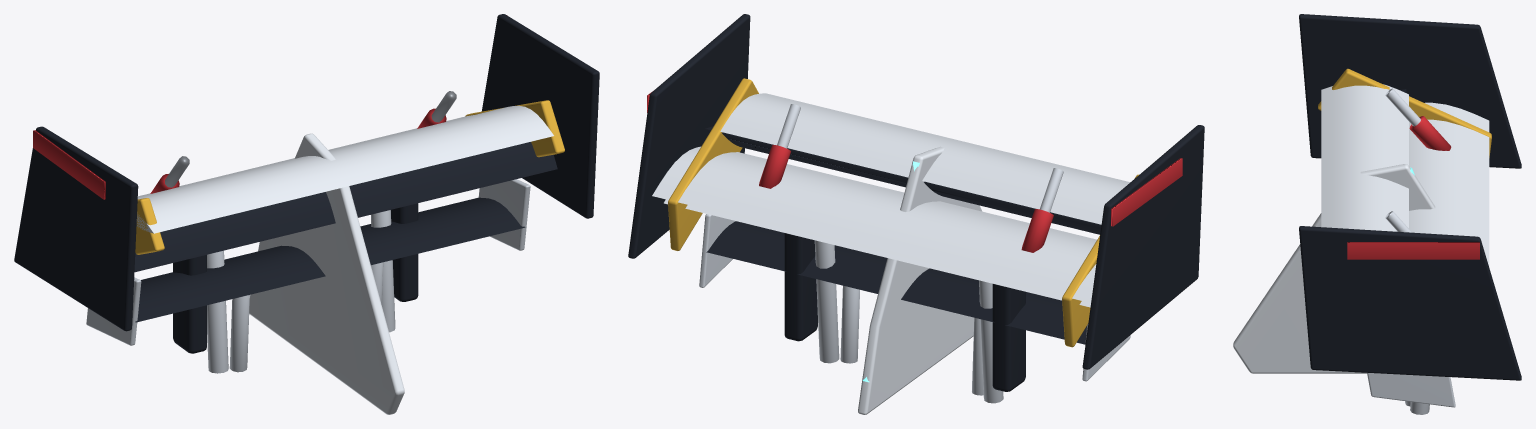
Rendered from parts_wing.glb.
The picture shows the model from 3 angles, left to right: view 1: azimuth 30°, elevation 25°; view 2: azimuth 150°, elevation 25°; view 3: azimuth 270°, elevation 25°; orthographic projection. The views are drawn at different scales.
Visible parts, largest first — view 1: FinBlade, TandemBlade1, FlapEndplate_-1, FlapBlade, FinLow, FlapEndplate_1, TandemSupport, FinSide_1, FlapStrut_-1, TandemSupport.001, FlapEndStripe_-1, FinStrut_-1 (+4 smaller); view 2: FlapMain, TandemBlade1, FlapEndplate_-1, FlapEndplate_1, FinBlade, FinLow, FlapBlade, TandemSupport, TandemSupport.001, TandemPlate.001, FlapStrut_1, TandemBlade0 (+8 smaller); view 3: FlapEndplate_1, FlapEndplate_-1, TandemBlade1, FlapMain, FinBlade, FlapEndStripe_1, FinSide_1, TandemPlate, FlapCylinder_-1, FlapActuator_-1, FlapActuator_1.
Part boxes in pixels (bbox=[...]): FinBlade: bbox=[249, 133, 404, 414]; TandemBlade1: bbox=[136, 105, 553, 233]; FlapEndplate_-1: bbox=[14, 126, 138, 331]; FlapBlade: bbox=[134, 142, 557, 272]; FinLow: bbox=[135, 197, 525, 322]; FlapEndplate_1: bbox=[481, 14, 599, 218]; TandemSupport: bbox=[173, 255, 206, 353]; FinSide_1: bbox=[478, 179, 530, 250]; FlapStrut_-1: bbox=[207, 250, 228, 373]; TandemSupport.001: bbox=[391, 203, 418, 301]; FlapEndStripe_-1: bbox=[33, 130, 105, 199]; FinStrut_-1: bbox=[229, 295, 249, 372]; FlapMain: bbox=[652, 146, 1096, 302]; TandemBlade1: bbox=[720, 93, 1129, 224]; FlapEndplate_-1: bbox=[1082, 125, 1204, 369]; FlapEndplate_1: bbox=[628, 14, 750, 258]; FinBlade: bbox=[858, 146, 982, 414]; FinLow: bbox=[706, 221, 1086, 344]; FlapBlade: bbox=[705, 126, 1101, 234]; TandemSupport: bbox=[992, 284, 1025, 391]; TandemSupport.001: bbox=[784, 233, 817, 341]; TandemPlate.001: bbox=[668, 78, 758, 250]; FlapStrut_1: bbox=[814, 240, 839, 363]; TandemBlade0: bbox=[664, 199, 1090, 307]; FlapEndplate_1: bbox=[1299, 226, 1521, 380]; FlapEndplate_-1: bbox=[1299, 14, 1521, 168]; TandemBlade1: bbox=[1321, 84, 1408, 231]; FlapMain: bbox=[1409, 102, 1489, 266]; FinBlade: bbox=[1233, 164, 1435, 373]; FlapEndStripe_1: bbox=[1347, 242, 1479, 259]; FinSide_1: bbox=[1367, 372, 1455, 407]; TandemPlate: bbox=[1318, 68, 1491, 157]; FlapCylinder_-1: bbox=[1409, 116, 1451, 150]; FlapActuator_-1: bbox=[1385, 88, 1420, 126]; FlapActuator_1: bbox=[1385, 211, 1411, 232].
Bounding box in the file's own units: 0.852 × 0.4609 × 0.4776.
